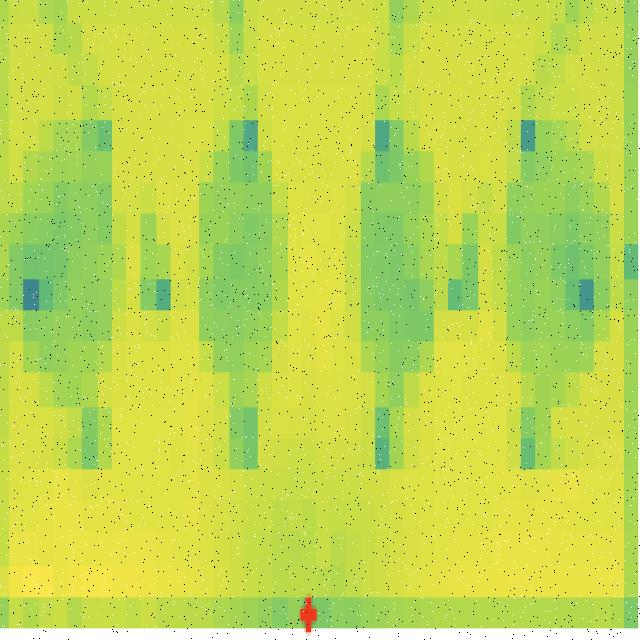Concrete: (188, 111, 296, 397)
Glass: (10, 97, 130, 402)
Metal: (338, 93, 445, 418)
Wood: (489, 97, 616, 419)
